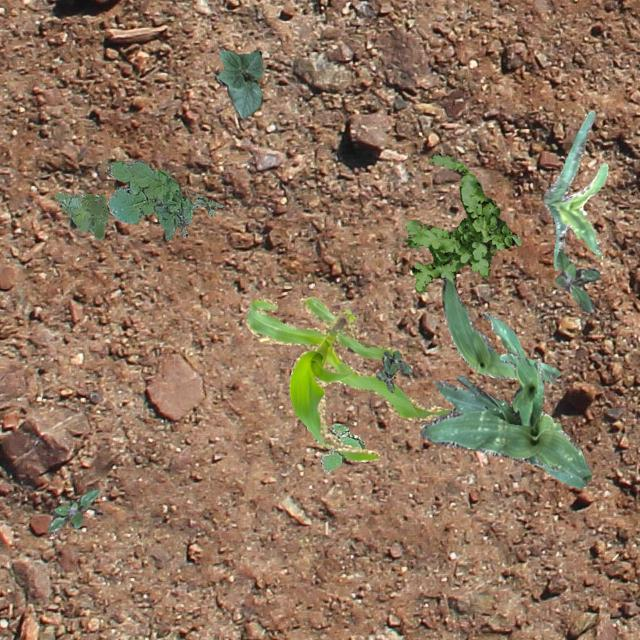crop: (244, 294, 450, 460), (420, 378, 590, 488), (441, 276, 558, 382), (542, 110, 606, 268), (456, 310, 544, 424), (216, 48, 262, 118)
weed: (404, 150, 520, 292), (106, 158, 192, 232), (164, 190, 222, 240), (554, 248, 598, 310), (54, 192, 108, 238), (46, 488, 98, 532), (320, 422, 364, 472), (374, 349, 410, 392)
